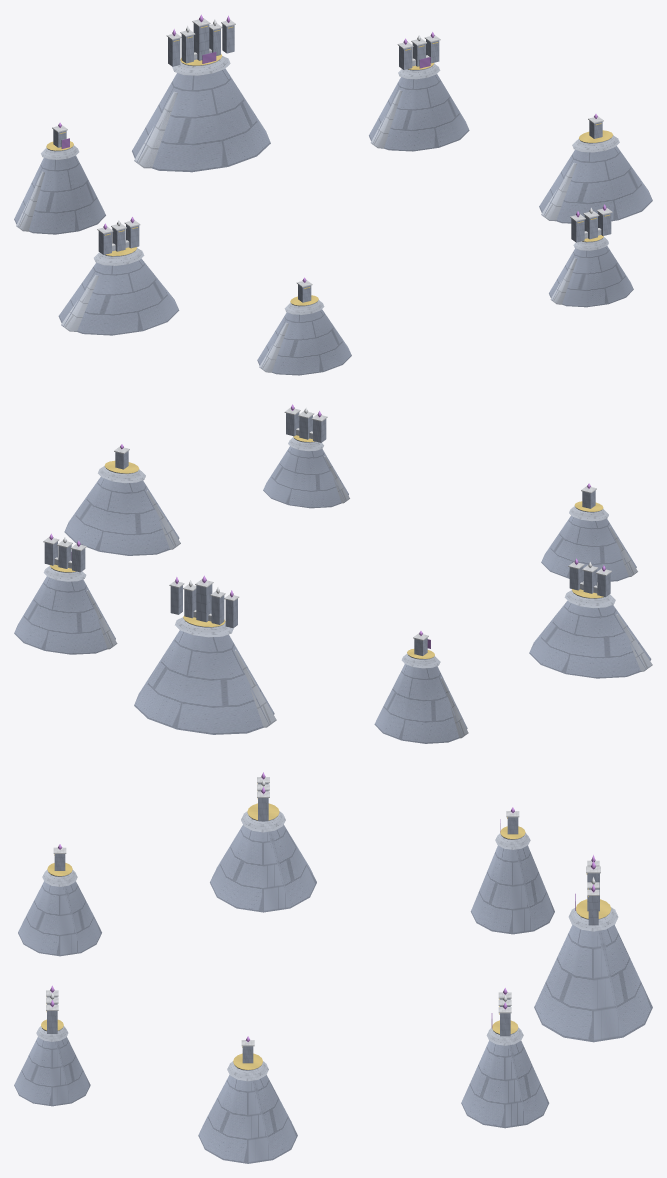
File: high_crown_horizon_citadel.obj
The picture shows the model from 3 angles, top to bottom: view 1: azimuth 30°, elevation 25°; view 2: azimuth 150°, elevation 25°; view 3: azimuth 270°, elevation 25°; orthographic projection. The views are drawn at different scales.
Visible parts, largest first — view 1: high_crown_horizon_citadel; view 2: high_crown_horizon_citadel; view 3: high_crown_horizon_citadel.
Part boxes in pixels (x1=…): high_crown_horizon_citadel: x1=14, y1=14, x2=652, y2=375; high_crown_horizon_citadel: x1=14, y1=404, x2=652, y2=743; high_crown_horizon_citadel: x1=14, y1=772, x2=652, y2=1163.
Size of the model in its own units: 384 by 84.22 by 333.
Materials: 6 (6 with a texture image).
